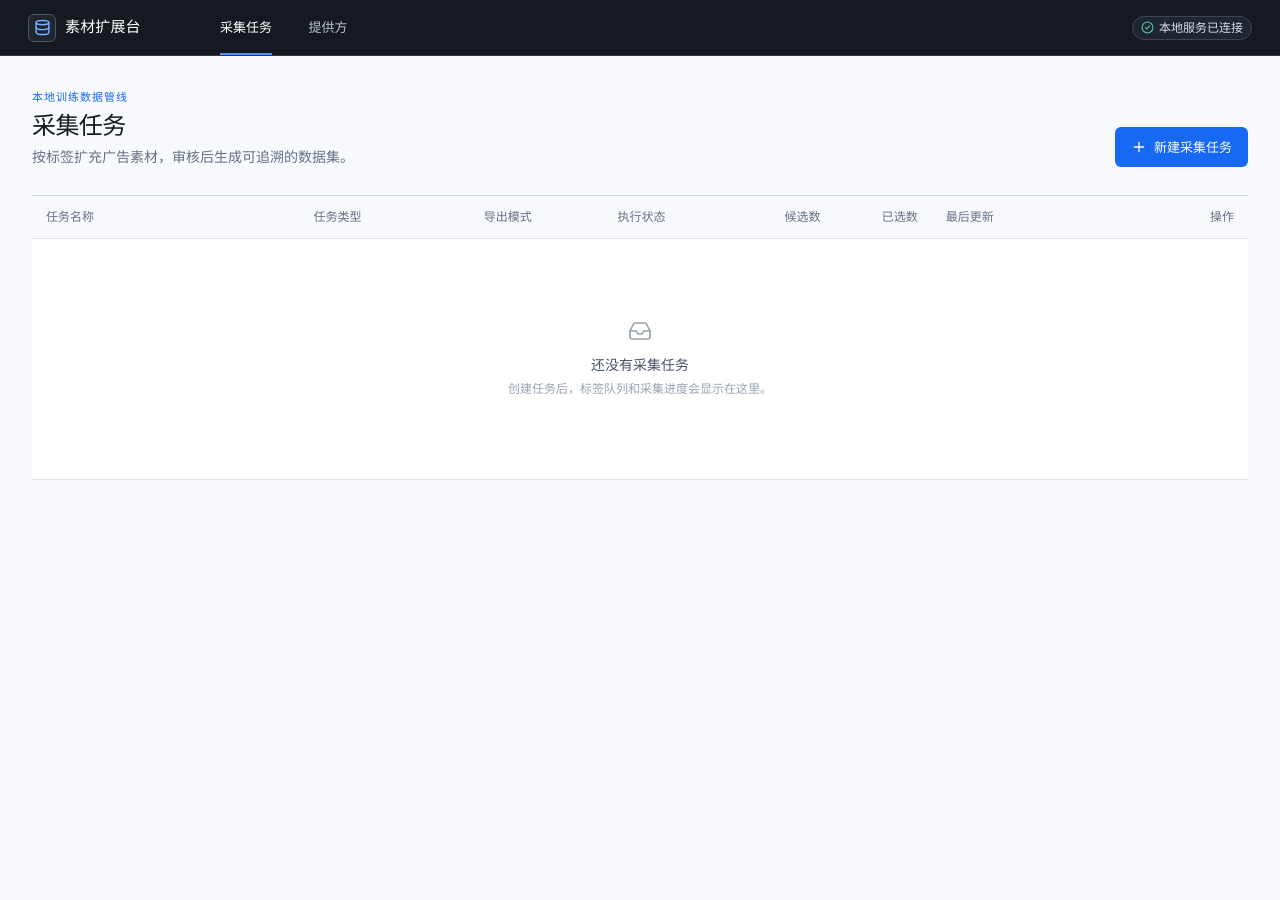
Scenario: 新建采集任务 › 广告品类默认选择全部六个平台，并支持全选和清空
The width and height of the screenshot is (1280, 900).
Click the button "新建采集任务" at (1182, 147), box [1115,127,1248,167]
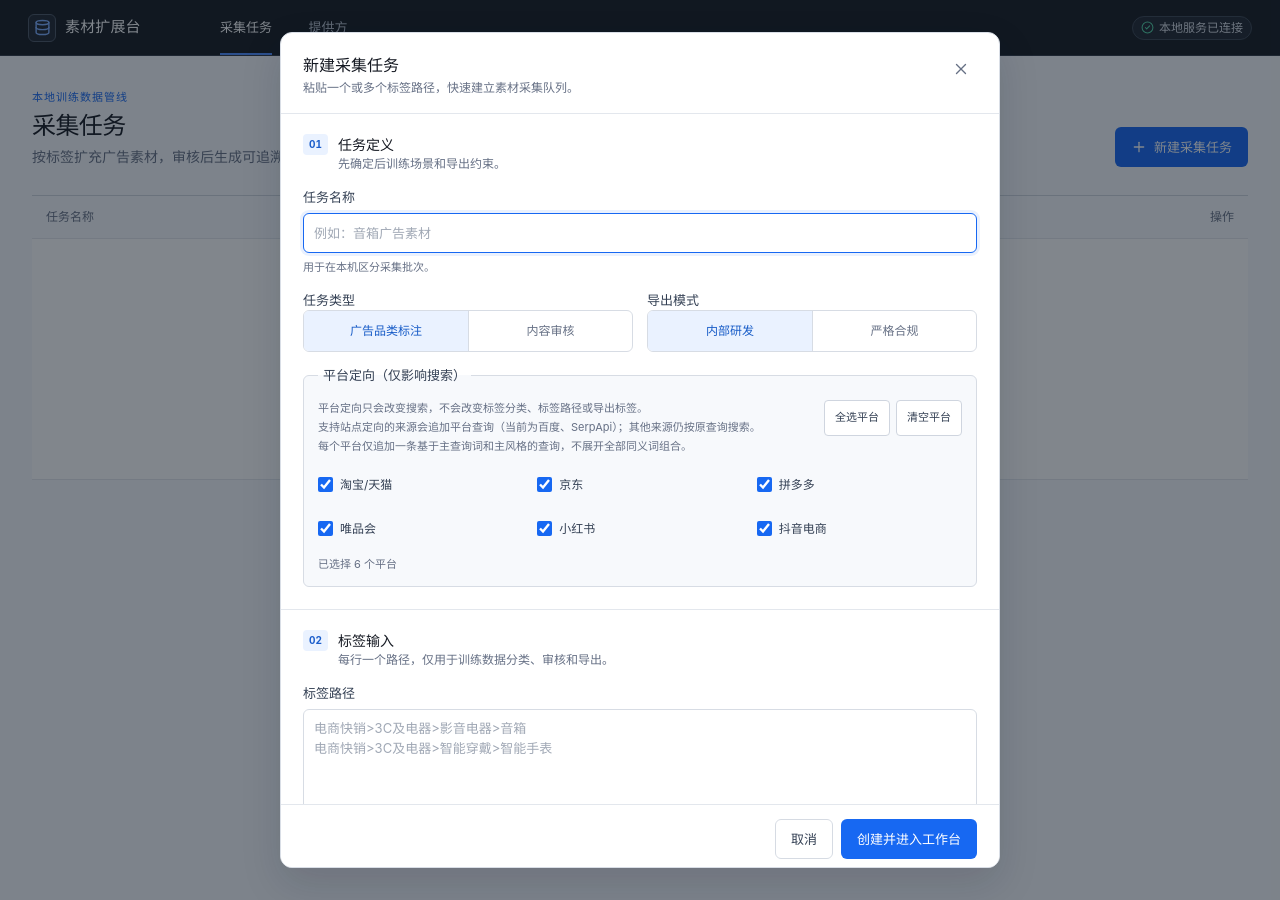
Check: the checkbox labelled "淘宝/天猫" is checked, box [318,477,333,492]
Check: the checkbox labelled "京东" is checked, box [537,477,552,492]
Check: the checkbox labelled "拼多多" is checked, box [757,477,772,492]
Click the button "清空平台" at (929, 418), box [896,400,962,436]
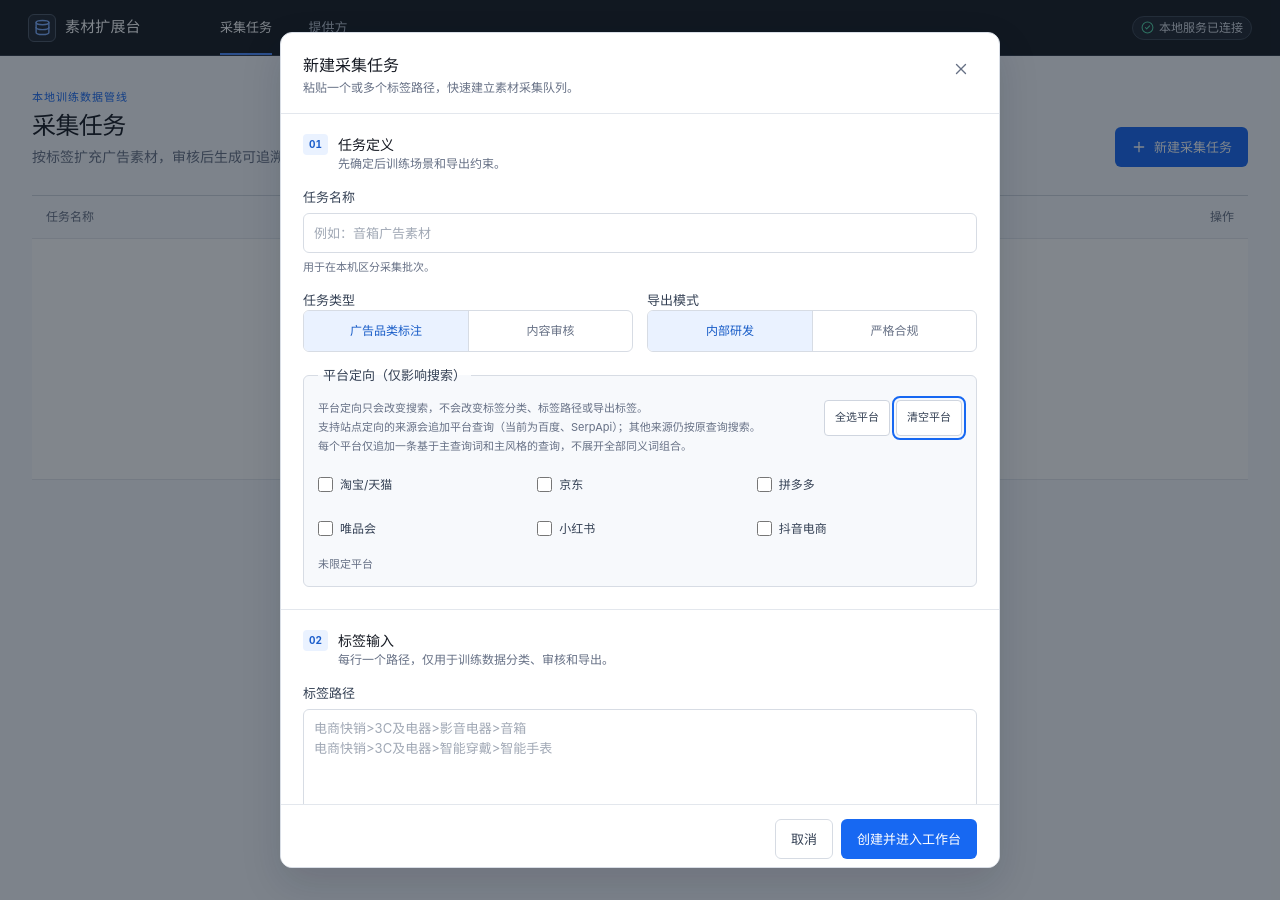
Check: the checkbox labelled "淘宝/天猫" is not checked, box [318,477,333,492]
Check: the checkbox labelled "京东" is not checked, box [537,477,552,492]
Check: the checkbox labelled "拼多多" is not checked, box [757,477,772,492]
Click the button "全选平台" at (857, 418), box [824,400,890,436]
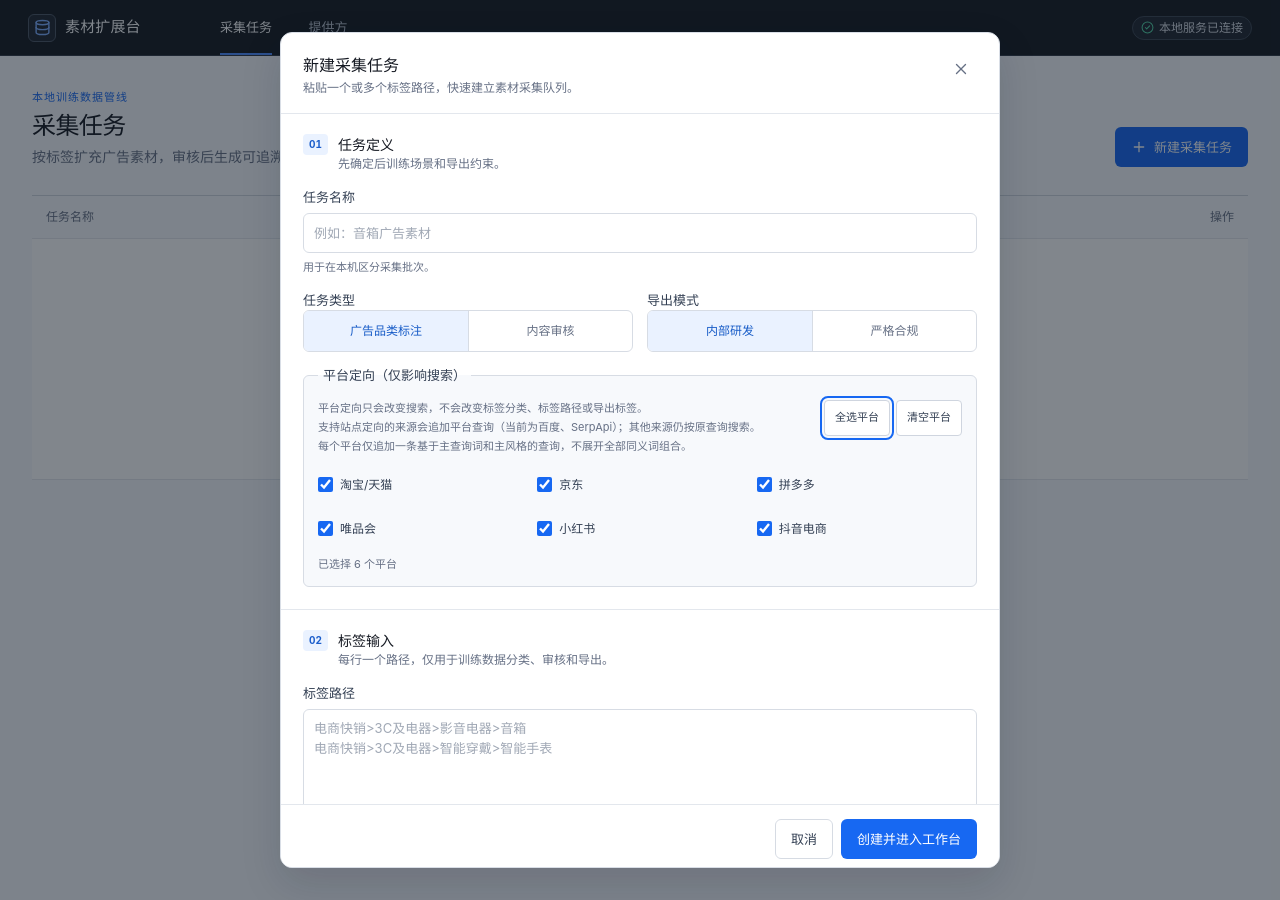
Check: the checkbox labelled "淘宝/天猫" is checked, box [318,477,333,492]
Check: the checkbox labelled "京东" is checked, box [537,477,552,492]
Check: the checkbox labelled "拼多多" is checked, box [757,477,772,492]
